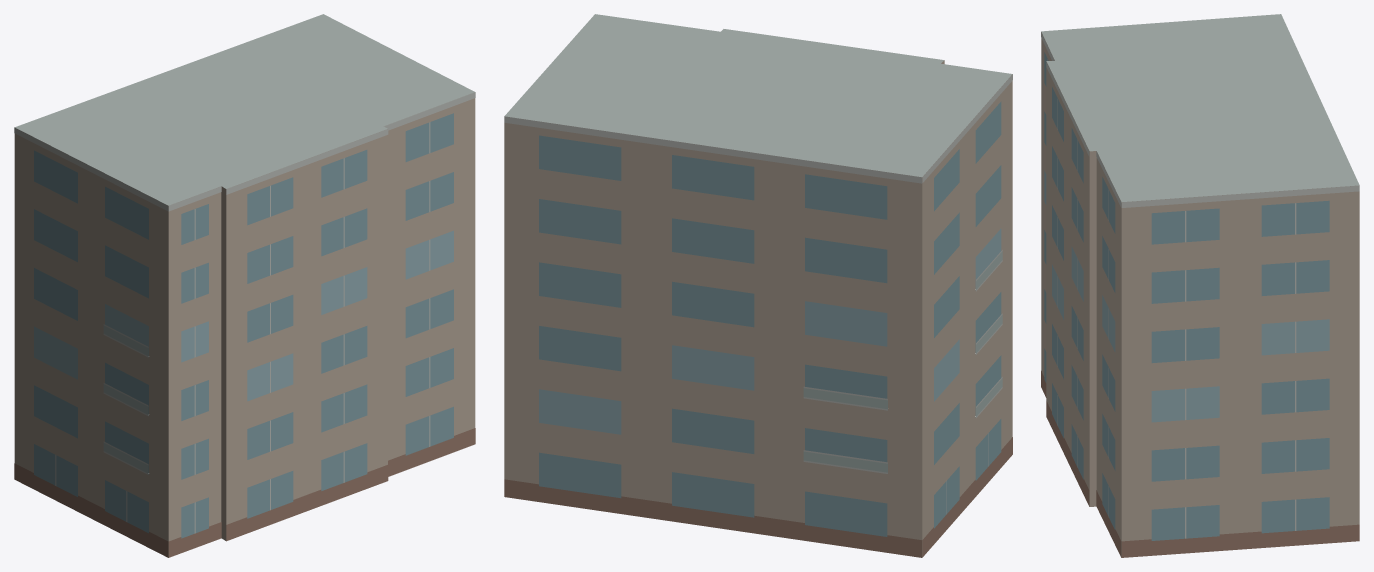
Rendered from survey-upis-32881626.glb.
3 views of the same model, side by side, from view 1: azimuth 30°, elevation 25°; view 2: azimuth 150°, elevation 25°; view 3: azimuth 270°, elevation 25° (orthographic). The views are drawn at different scales.
Parts seen in each view (by area): view 1: survey-upis-32881626.tmp; view 2: survey-upis-32881626.tmp; view 3: survey-upis-32881626.tmp.
Boxes of the visible parts, x1,y1,x2,y2 form: survey-upis-32881626.tmp: [14, 14, 475, 557]; survey-upis-32881626.tmp: [504, 14, 1012, 557]; survey-upis-32881626.tmp: [1041, 14, 1359, 557].
Bounding box in the file's own units: 16.52 × 14.55 × 11.82.
